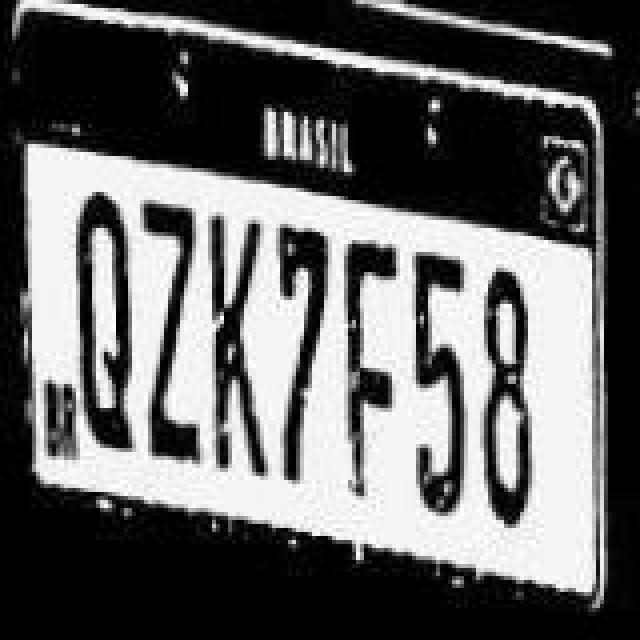5: (408, 250, 468, 514)
7: (276, 222, 332, 482)
8: (482, 266, 538, 526)
F: (340, 238, 396, 498)
K: (206, 214, 274, 478)
Q: (70, 190, 138, 450)
Z: (138, 202, 206, 466)
